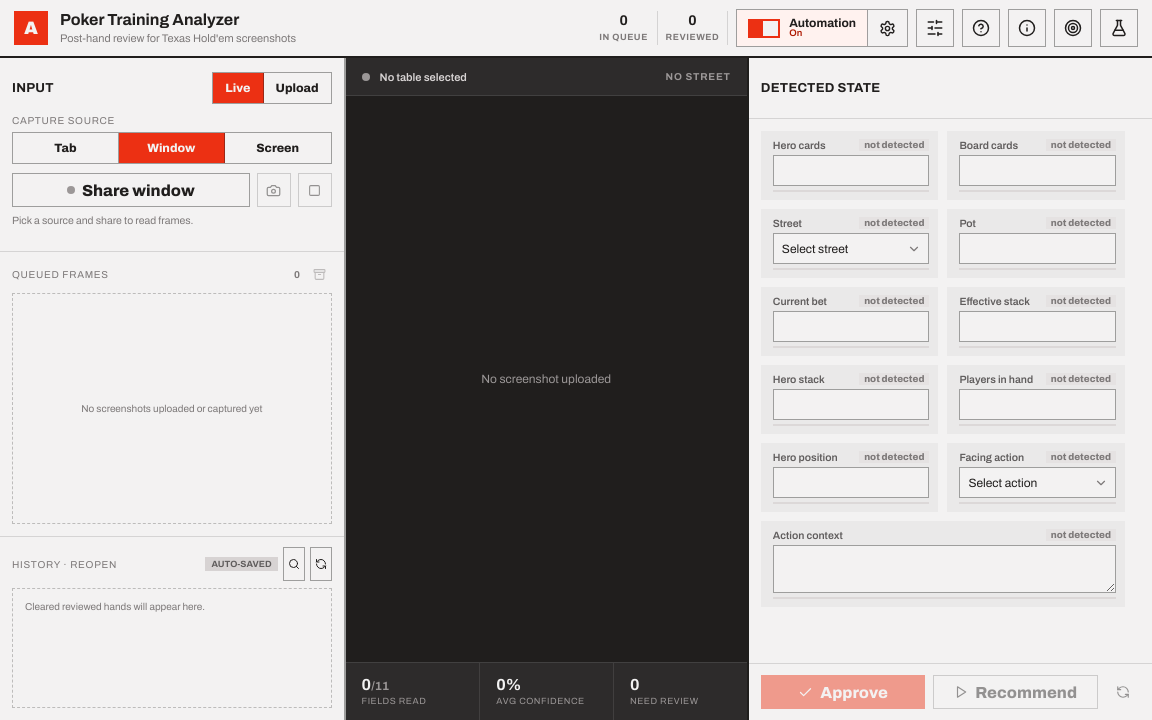
Test: Analyzer capture and automation › reports when screen sharing is not available
Click the button "Share window".
click(131, 190)  # box [12,173,250,207]
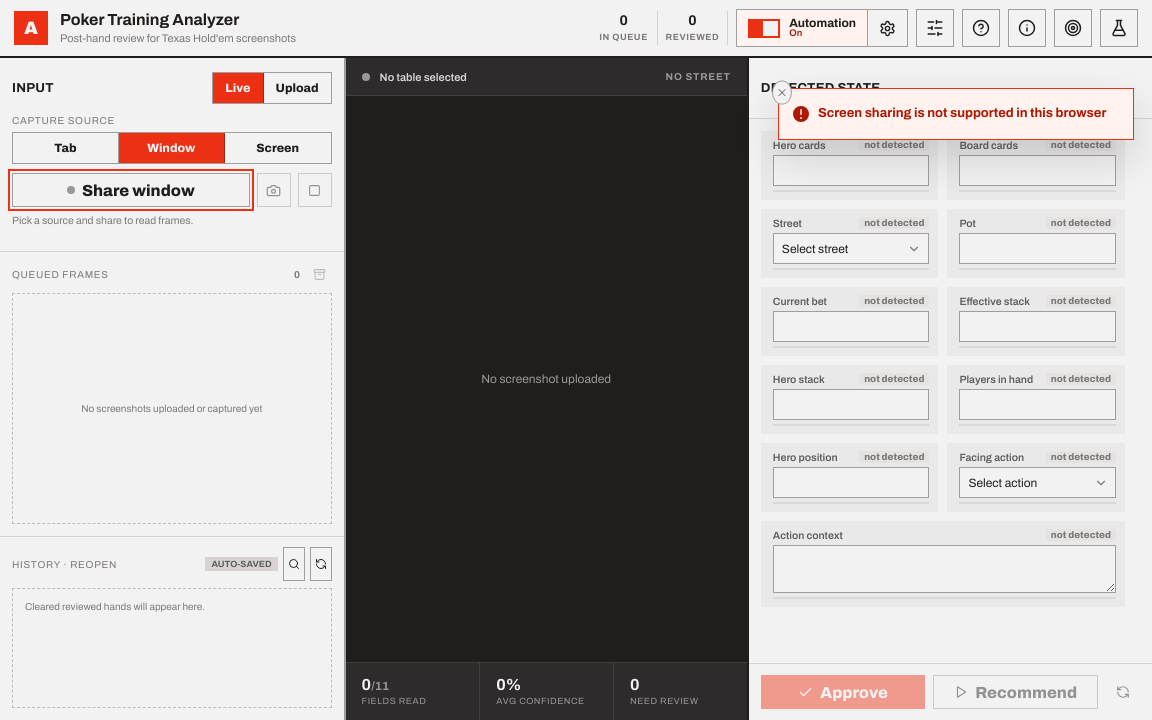
Check: the text "Screen sharing is not supported in this browser" is shown, box [818,105,1106,122]
